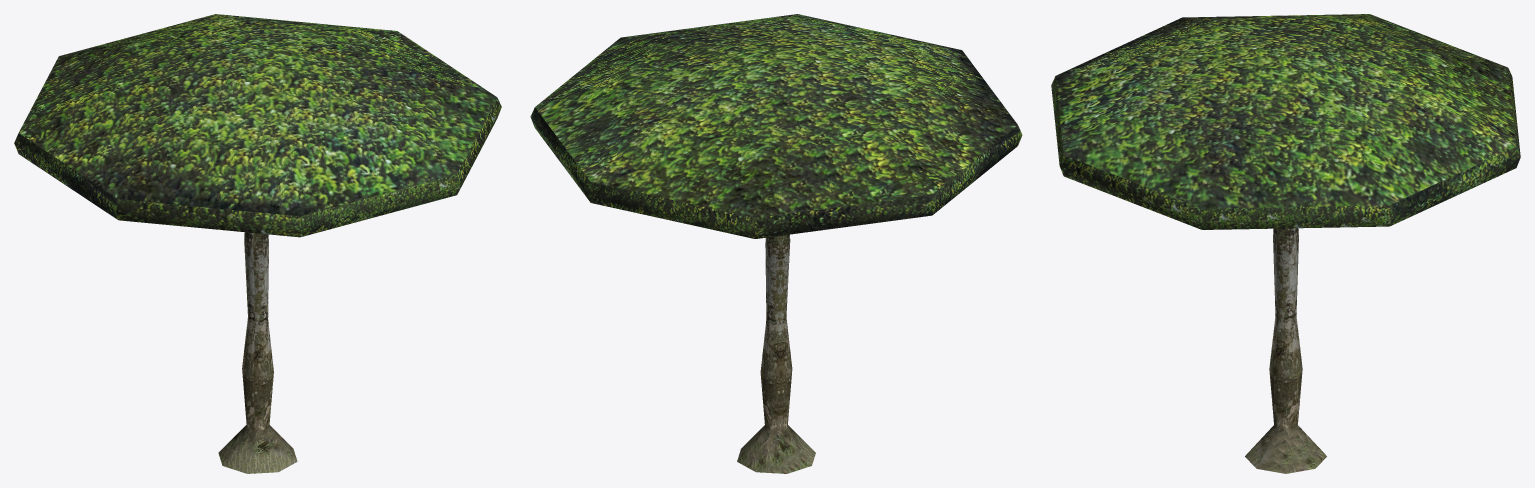
The model's file is cay-sanh-1.glb.
The picture shows the model from 3 angles, left to right: view 1: azimuth 30°, elevation 25°; view 2: azimuth 150°, elevation 25°; view 3: azimuth 270°, elevation 25°; orthographic projection.
Parts seen in each view (by area): view 1: Cay_Sanh_80_150tr; view 2: Cay_Sanh_80_150tr; view 3: Cay_Sanh_80_150tr.
Boxes of the visible parts, box(x1,y1,x2,y2) form: Cay_Sanh_80_150tr: box(14, 14, 501, 473); Cay_Sanh_80_150tr: box(530, 14, 1022, 473); Cay_Sanh_80_150tr: box(1051, 14, 1520, 473).
Bounding box in the file's own units: 3.08 × 2.89 × 3.08.
1 material, 1 textured.
